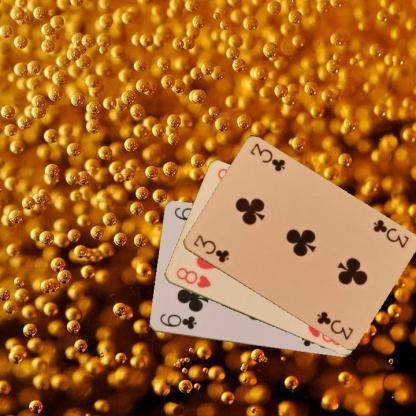3c: (370, 216, 410, 250), (191, 232, 231, 264)
6c: (156, 311, 198, 331)
8h: (174, 265, 214, 290)
